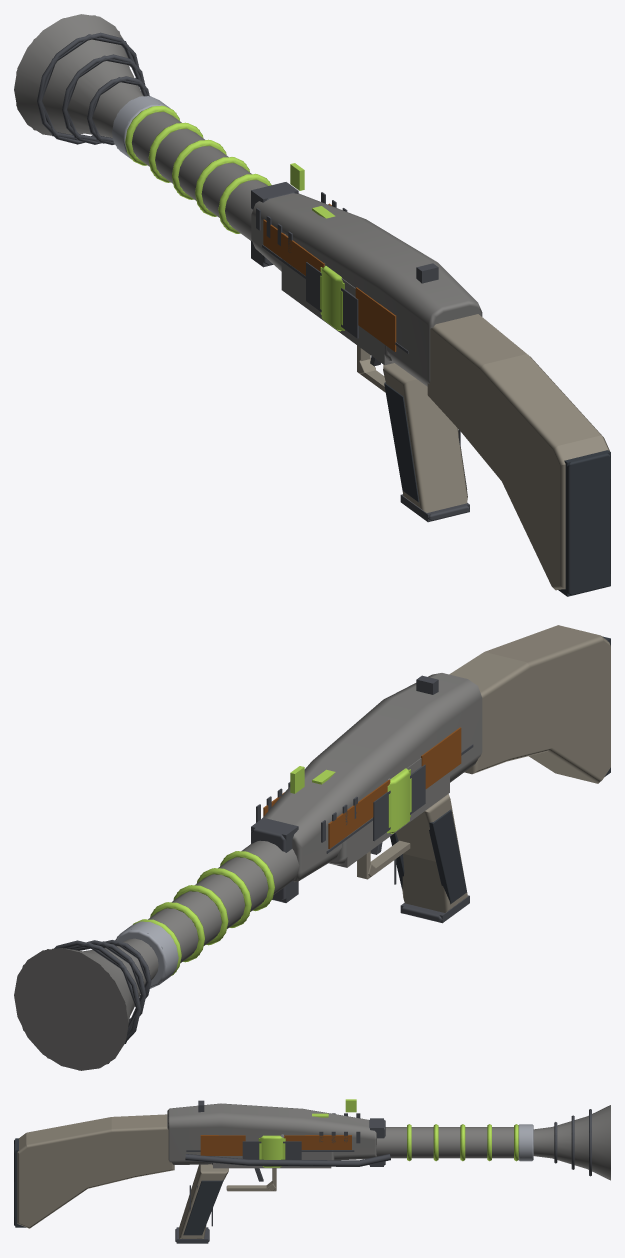
The model's file is e_scatter.glb.
3 views of the same model, one above another, from view 1: azimuth 30°, elevation 25°; view 2: azimuth 150°, elevation 25°; view 3: azimuth 270°, elevation 25° (orthographic). The views are drawn at different scales.
Parts seen in each view (by area): view 1: L0, L1; view 2: L0, L1; view 3: L0, L1.
Boxes of the visible parts, x1,y1,x2,y2 form: L0: [14, 14, 610, 595]; L1: [16, 15, 610, 596]; L0: [14, 625, 610, 1070]; L1: [15, 637, 610, 1070]; L0: [14, 1099, 610, 1242]; L1: [15, 1106, 610, 1243].
Bounding box in the file's own units: 0.0966 × 0.1926 × 0.7578.
